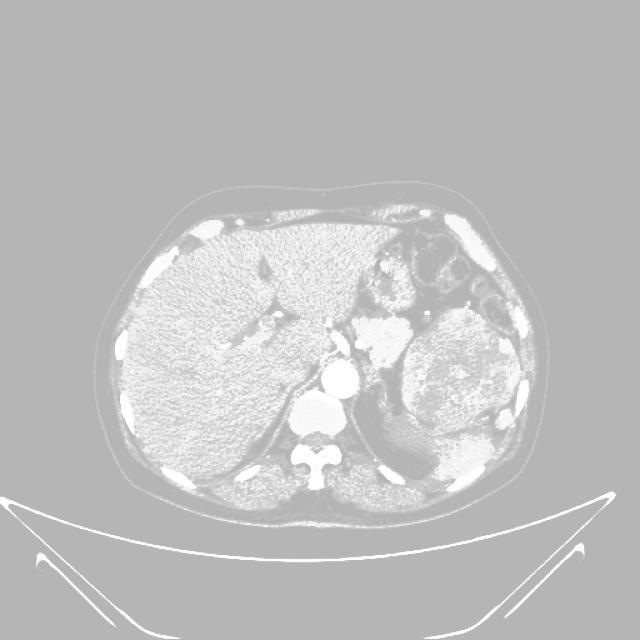TUMOR: (347, 257, 549, 511)
